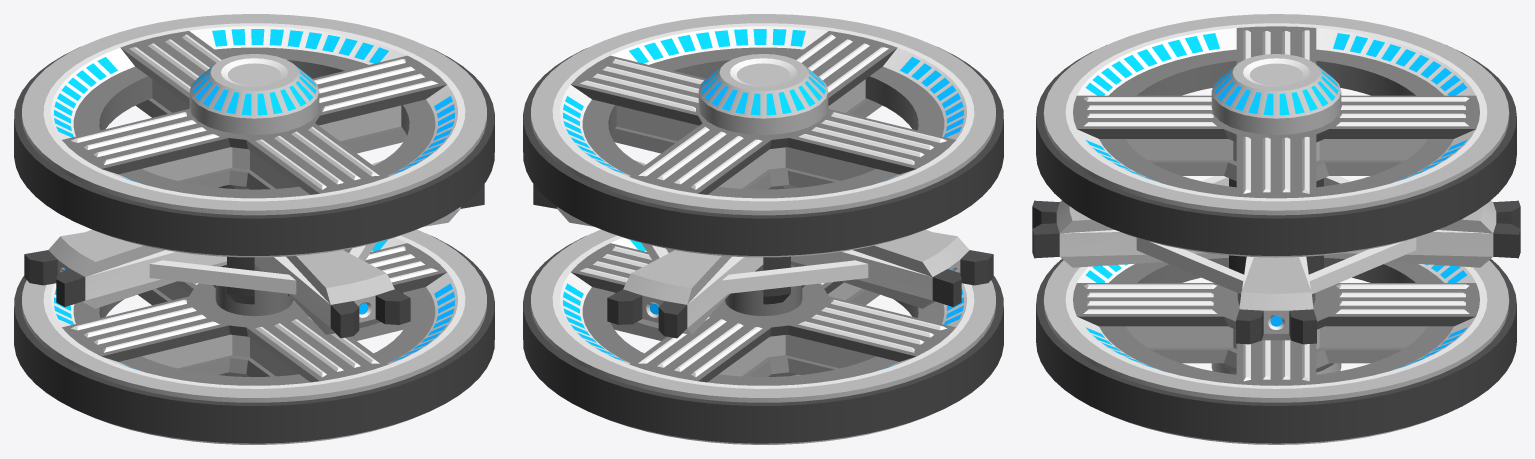
The model's file is Station06.fbx.
3 views of the same model, side by side, from view 1: azimuth 30°, elevation 25°; view 2: azimuth 150°, elevation 25°; view 3: azimuth 270°, elevation 25° (orthographic).
Parts seen in each view (by area): view 1: Ring_HD, Base_HD; view 2: Ring_HD, Base_HD; view 3: Ring_HD, Base_HD.
Boxes of the visible parts, bbox=[...] form: Ring_HD: bbox=[14, 14, 494, 444]; Base_HD: bbox=[24, 54, 484, 376]; Ring_HD: bbox=[523, 14, 1003, 444]; Base_HD: bbox=[533, 54, 993, 376]; Ring_HD: bbox=[1036, 14, 1516, 444]; Base_HD: bbox=[1032, 54, 1520, 374].
Bounding box in the file's own units: 1889 × 1340 × 1889.
